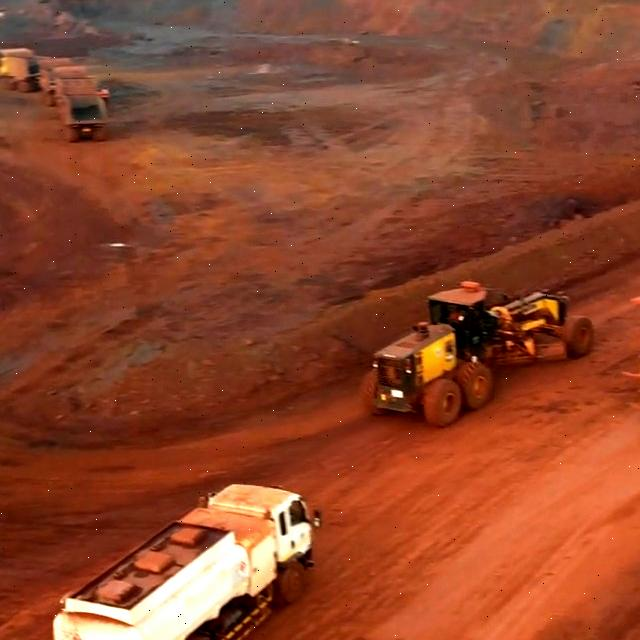Dumper truck: (65, 83, 102, 142), (0, 53, 39, 89)
